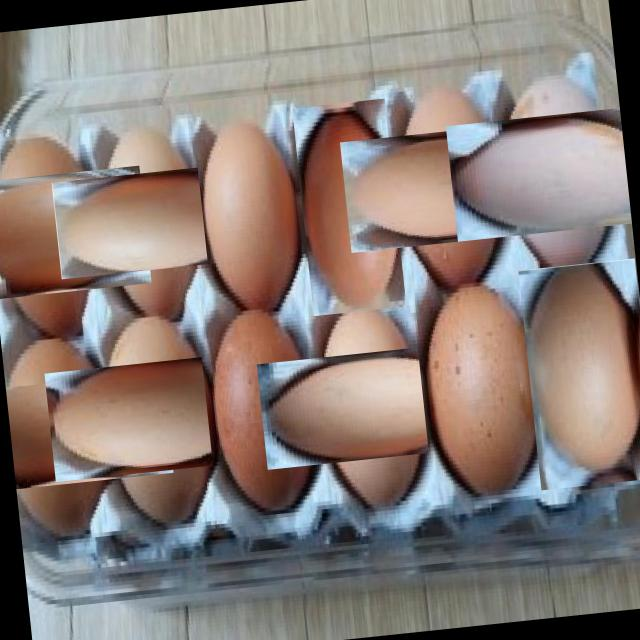eggs: (412, 282, 552, 513), (280, 317, 458, 495), (362, 96, 540, 274), (66, 329, 241, 504), (466, 84, 634, 262), (517, 258, 640, 490), (198, 304, 330, 515), (74, 139, 235, 301), (292, 97, 406, 316), (2, 346, 148, 516), (193, 115, 311, 322), (0, 148, 134, 316)
